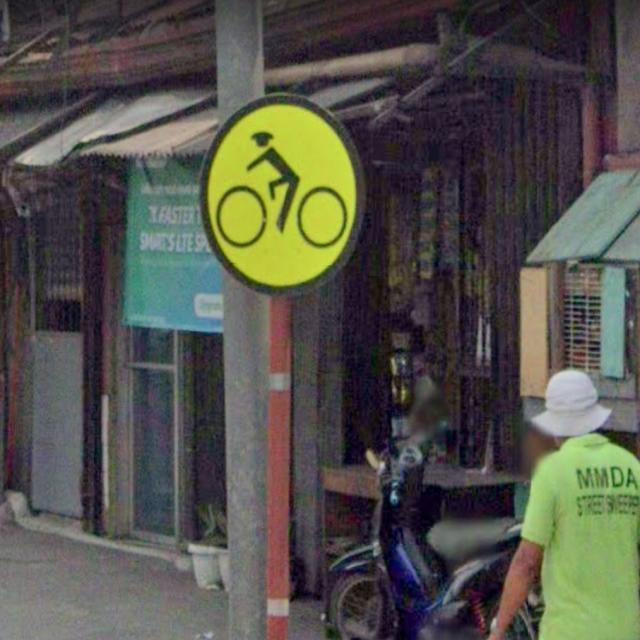bike lane: (199, 92, 365, 296)
